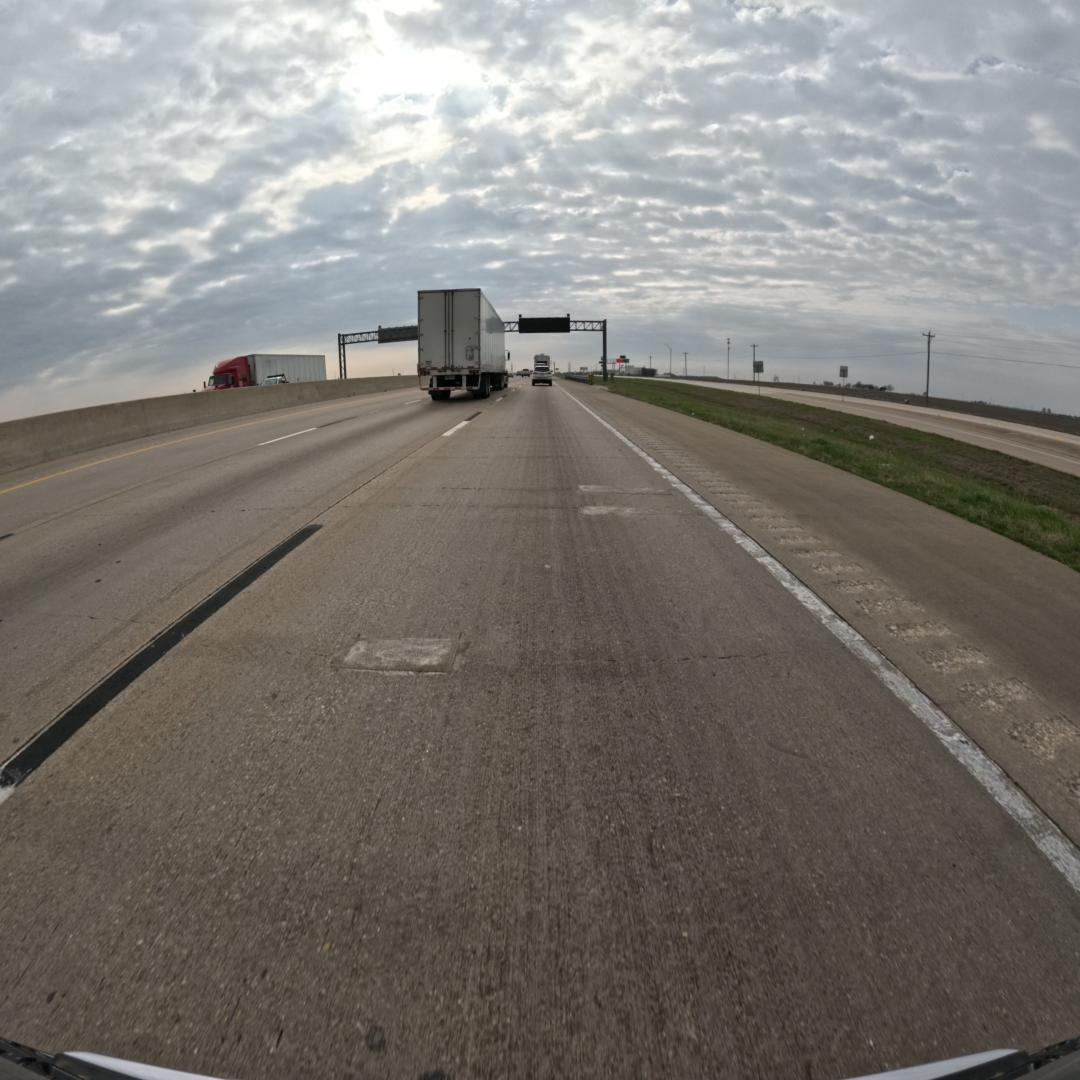lane0: (0, 389, 1080, 1077), (257, 457, 266, 467)
lane1: (0, 400, 476, 763)
